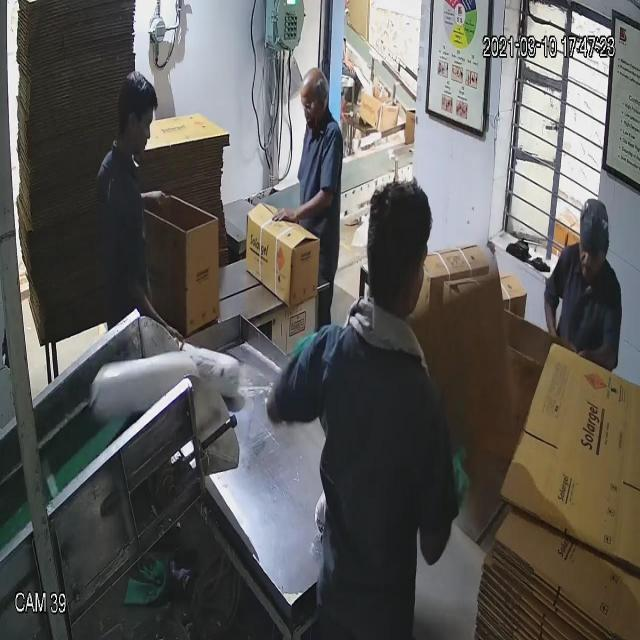No_Gloves: (268, 172, 340, 236)
